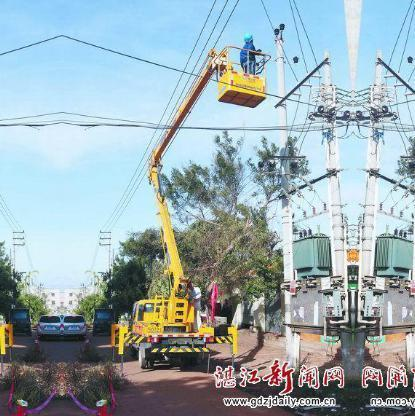helmet: (241, 28, 257, 47)
